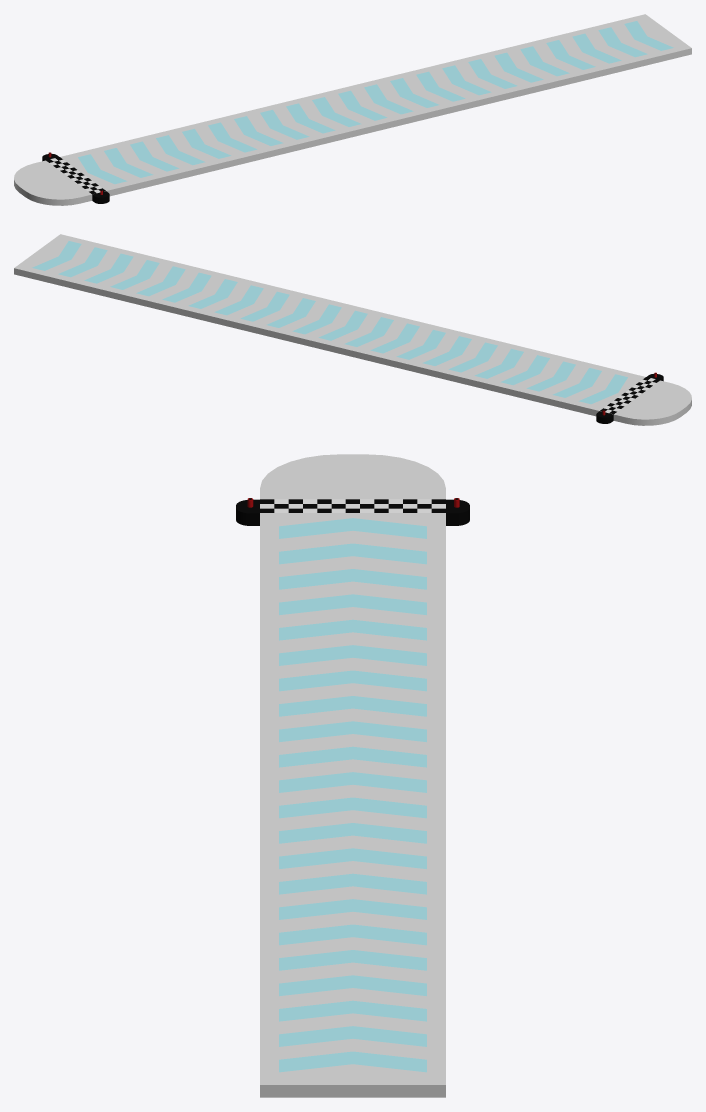
Rendered from yol.fbx.
3 views of the same model, one above another, from view 1: azimuth 30°, elevation 25°; view 2: azimuth 150°, elevation 25°; view 3: azimuth 270°, elevation 25° (orthographic). The views are drawn at different scales.
Parts seen in each view (by area): view 1: yol; view 2: yol; view 3: yol.
Part boxes in pixels (x1=…): yol: x1=14, y1=14, x2=691, y2=205; yol: x1=14, y1=234, x2=691, y2=425; yol: x1=236, y1=454, x2=469, y2=1097.
Bounding box in the file's own units: 1606 × 23.83 × 252.
